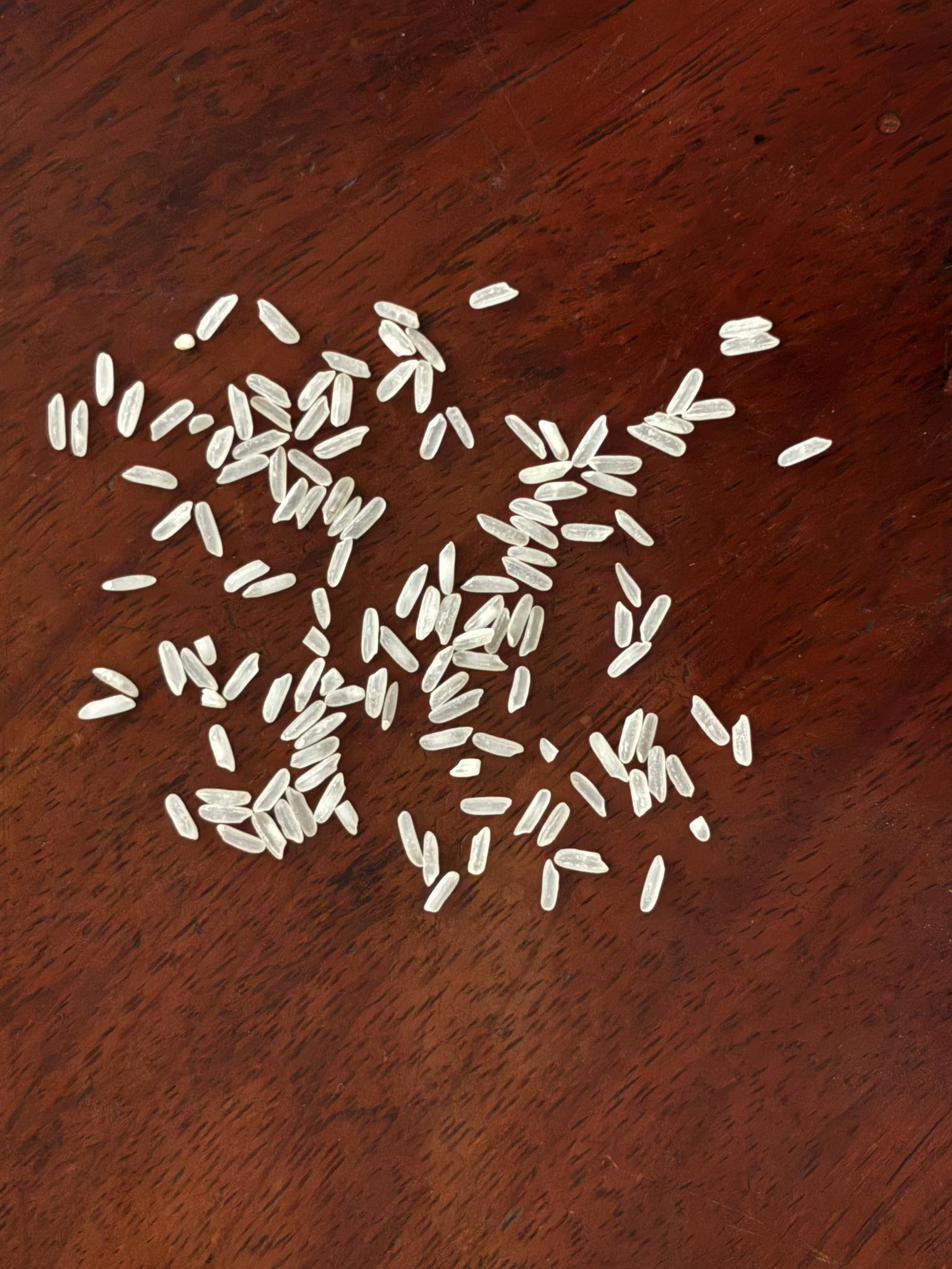Rice-th-y-nh: (627, 420, 687, 457), (569, 415, 610, 468), (257, 297, 300, 346), (341, 496, 387, 541), (195, 293, 239, 340), (379, 624, 420, 674), (149, 397, 195, 441), (505, 413, 548, 460), (690, 696, 730, 746), (428, 688, 483, 724), (294, 753, 342, 794), (665, 367, 704, 417), (394, 563, 429, 618), (222, 652, 261, 701), (315, 425, 369, 460), (280, 701, 326, 742), (501, 556, 553, 592), (589, 731, 627, 780), (406, 328, 447, 373), (293, 656, 326, 711), (298, 712, 347, 749), (376, 357, 416, 402), (179, 645, 218, 691), (232, 428, 288, 460), (513, 789, 551, 836), (272, 477, 310, 524), (320, 475, 355, 526), (476, 514, 530, 547), (215, 452, 269, 485), (151, 500, 194, 541), (777, 435, 832, 467), (510, 515, 560, 550), (606, 640, 652, 678), (287, 448, 333, 486), (720, 329, 780, 358), (570, 771, 607, 818), (163, 793, 199, 841), (412, 586, 444, 640), (193, 502, 224, 557), (420, 645, 455, 693), (77, 693, 137, 721), (296, 369, 336, 411), (245, 374, 293, 409), (240, 570, 296, 600), (462, 595, 506, 633), (293, 397, 330, 442), (116, 381, 145, 438), (253, 769, 290, 813), (327, 495, 364, 539), (433, 592, 464, 644), (614, 507, 654, 547), (314, 773, 346, 823), (582, 469, 637, 498), (158, 640, 187, 695), (250, 395, 293, 432), (638, 595, 671, 643), (536, 803, 571, 848), (252, 812, 287, 857), (226, 385, 254, 441), (395, 811, 424, 865), (223, 559, 269, 593), (417, 413, 450, 460), (261, 673, 292, 723), (290, 737, 340, 768), (509, 496, 559, 527), (506, 593, 535, 646), (429, 671, 469, 709), (639, 857, 666, 913), (553, 847, 609, 874), (92, 666, 139, 698), (321, 349, 371, 379), (423, 872, 459, 913), (285, 788, 316, 835), (294, 485, 327, 529), (215, 825, 265, 854), (468, 281, 518, 310), (377, 320, 416, 357), (123, 464, 178, 490), (645, 408, 694, 437), (325, 537, 354, 586), (719, 314, 773, 340), (683, 396, 737, 422), (485, 606, 513, 656), (273, 798, 304, 843), (207, 724, 236, 772), (728, 715, 755, 766), (519, 460, 574, 485), (196, 784, 251, 809), (587, 452, 644, 476), (664, 753, 695, 797), (373, 300, 420, 329), (329, 374, 355, 426), (618, 709, 644, 761), (518, 607, 545, 657), (362, 668, 389, 718), (539, 419, 570, 462), (613, 563, 643, 607), (266, 447, 290, 502), (420, 727, 474, 751), (445, 406, 475, 449), (205, 426, 235, 469), (472, 732, 523, 757), (506, 544, 557, 569), (634, 713, 660, 762), (646, 746, 668, 802), (93, 352, 116, 405), (359, 607, 381, 662), (69, 400, 90, 457), (46, 394, 67, 450), (534, 480, 587, 502), (198, 803, 251, 825), (412, 360, 434, 413), (462, 574, 517, 595), (628, 769, 652, 817), (453, 650, 507, 671), (507, 666, 531, 713), (561, 522, 614, 543), (468, 827, 491, 875), (437, 541, 458, 593), (539, 859, 560, 910), (461, 795, 512, 816), (325, 684, 366, 708), (453, 626, 494, 650), (102, 574, 156, 592), (380, 682, 400, 730), (422, 832, 440, 885), (613, 602, 633, 648), (310, 588, 332, 628), (302, 626, 330, 657), (335, 801, 359, 835), (193, 634, 218, 666), (319, 668, 345, 697), (450, 758, 481, 778), (187, 413, 215, 435), (689, 816, 711, 842), (200, 688, 227, 709), (539, 738, 560, 763)
